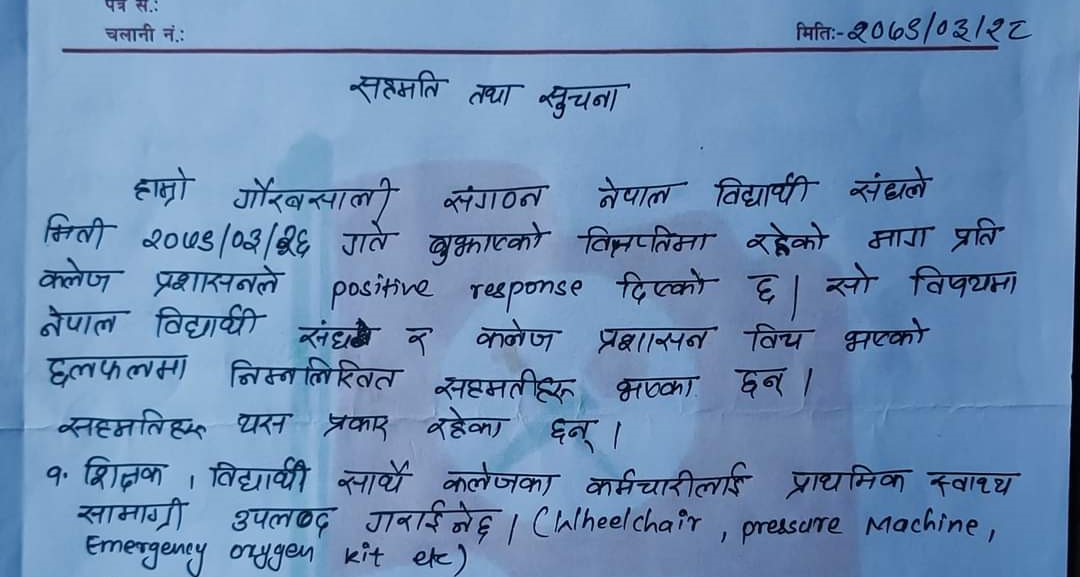text: (224, 353, 401, 394), (136, 221, 316, 261), (584, 459, 749, 501), (845, 11, 1037, 45), (422, 219, 552, 268), (227, 175, 394, 213), (51, 406, 217, 444), (432, 365, 581, 406), (43, 351, 193, 391), (579, 220, 715, 260), (364, 500, 497, 540), (151, 264, 288, 302), (439, 460, 558, 501), (785, 462, 909, 501), (74, 492, 188, 533), (346, 65, 448, 109), (149, 305, 264, 344), (909, 262, 1023, 301), (594, 321, 715, 357), (227, 499, 334, 538), (535, 80, 631, 122), (709, 173, 814, 211), (208, 458, 313, 496), (922, 464, 1014, 507), (77, 453, 171, 495), (439, 179, 549, 214), (616, 267, 708, 308), (595, 172, 686, 213), (743, 218, 831, 260), (846, 166, 934, 206), (842, 317, 927, 358), (34, 304, 126, 341), (32, 256, 114, 297), (475, 317, 561, 356), (423, 406, 507, 445), (128, 161, 195, 208), (333, 459, 412, 498), (39, 210, 113, 250), (612, 372, 699, 404), (318, 411, 394, 445), (545, 415, 602, 457), (748, 318, 812, 355), (822, 260, 881, 300), (336, 217, 392, 258), (295, 317, 355, 354), (949, 215, 1005, 253), (734, 365, 793, 400), (865, 222, 933, 252), (232, 408, 293, 437), (465, 80, 522, 107), (401, 322, 436, 358), (746, 271, 780, 308), (42, 459, 64, 489)
